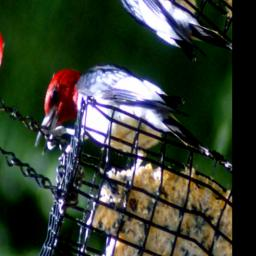Woodpecker: (29, 24, 227, 250)
